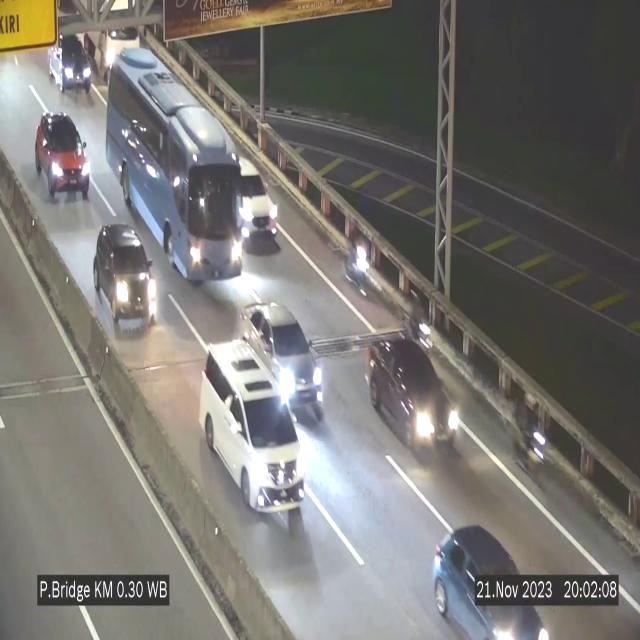Bus: (104, 47, 244, 286)
Car: (200, 341, 304, 513), (426, 506, 552, 640), (370, 330, 460, 458), (250, 304, 324, 420), (95, 220, 157, 326), (33, 110, 93, 202), (233, 156, 280, 245), (46, 25, 90, 96)
Motorcycle: (512, 393, 544, 484), (408, 286, 431, 356), (346, 220, 367, 296)
Truck: (76, 0, 142, 78)
